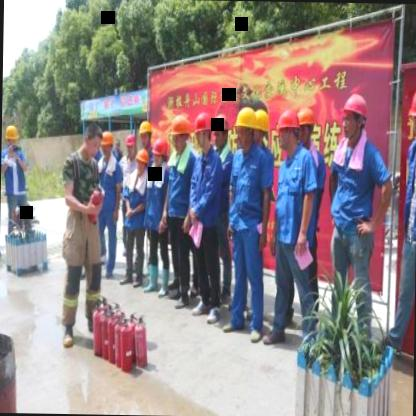helmet: (340, 89, 368, 143), (233, 102, 257, 152), (276, 107, 298, 156), (168, 112, 191, 152), (192, 112, 214, 153), (294, 104, 314, 148), (254, 107, 270, 148), (212, 112, 228, 151), (151, 134, 168, 167), (407, 83, 416, 143), (97, 130, 114, 158), (2, 122, 20, 148), (134, 146, 150, 174), (137, 119, 151, 147), (124, 134, 135, 160)
